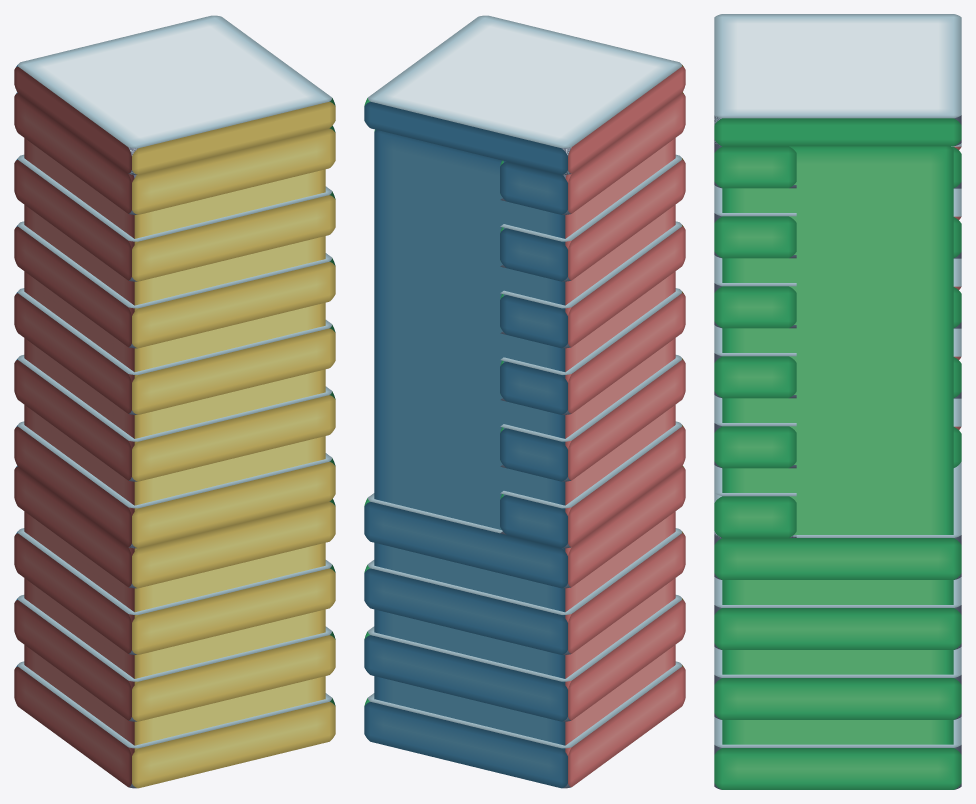
Rendered from building3.fbx.
The picture shows the model from 3 angles, left to right: view 1: azimuth 30°, elevation 25°; view 2: azimuth 150°, elevation 25°; view 3: azimuth 270°, elevation 25°; orthographic projection. The views are drawn at different scales.
Visible parts, largest first — view 1: cuboid_1, cuboid; view 2: cuboid_1, cuboid; view 3: cuboid_1, cuboid.
Boxes of the visible parts, left/top/right/bottom form: cuboid_1: left=14, top=15, right=335, bottom=788; cuboid: left=24, top=138, right=325, bottom=755; cuboid_1: left=364, top=15, right=685, bottom=788; cuboid: left=374, top=129, right=675, bottom=755; cuboid_1: left=714, top=14, right=961, bottom=789; cuboid: left=722, top=146, right=953, bottom=744.
Bounding box in the file's own units: 100 × 300 × 100.
2 materials, 2 textured.
